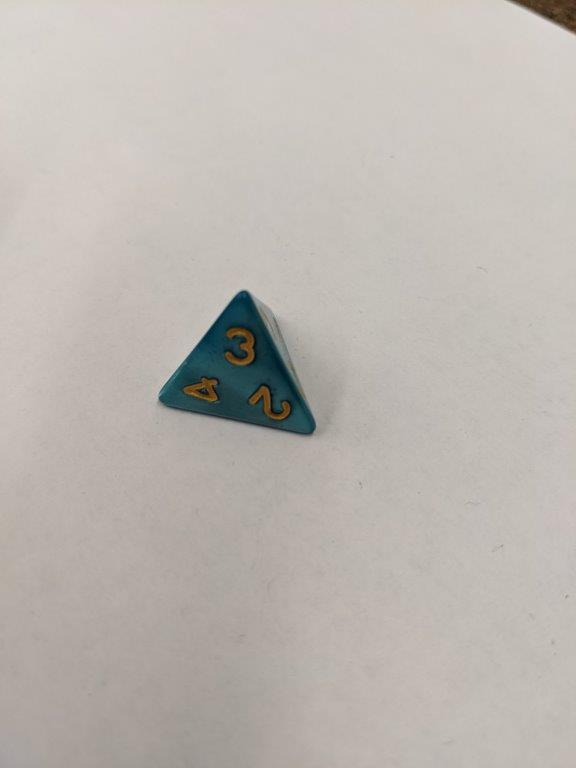d4-3: (159, 287, 318, 444)
